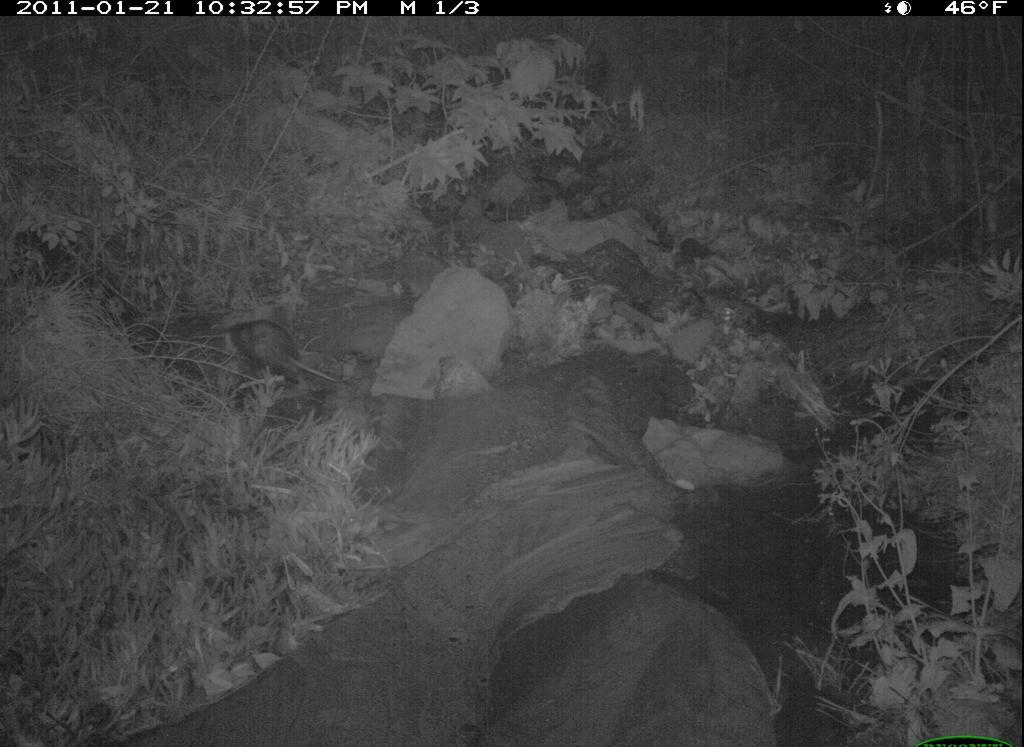opossum: (205, 295, 372, 405)
